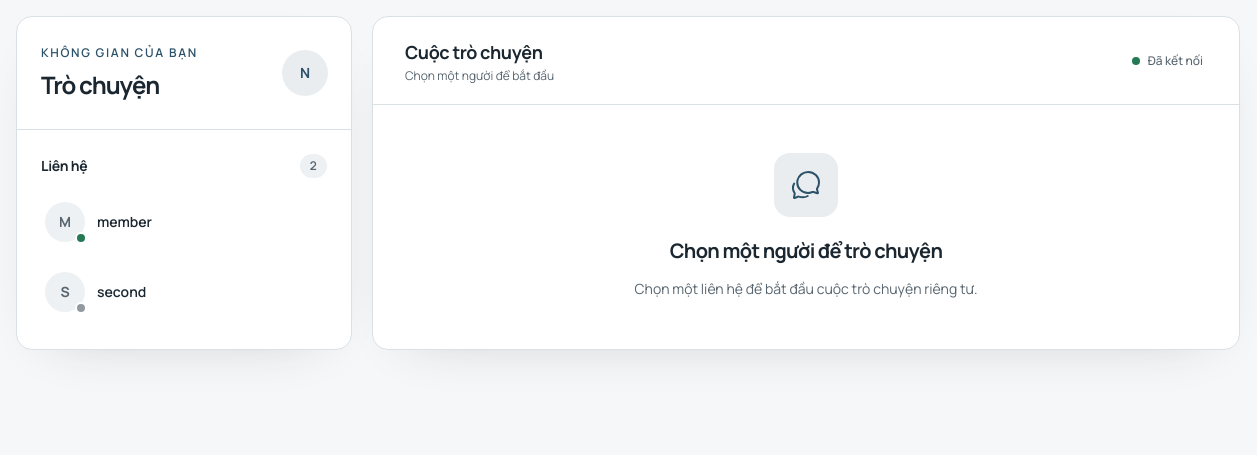
it: shows contact presence and updates it from realtime events
Click the button "M member" at (65, 222), box [33, 190, 335, 254]
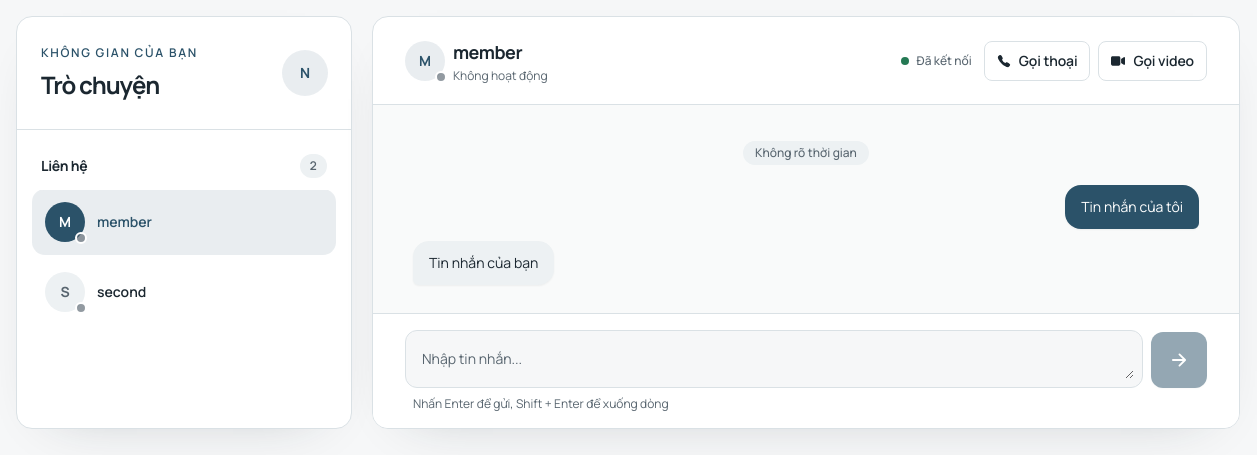
Expected: the text "Không hoạt động" is shown, [453, 68, 548, 84]
